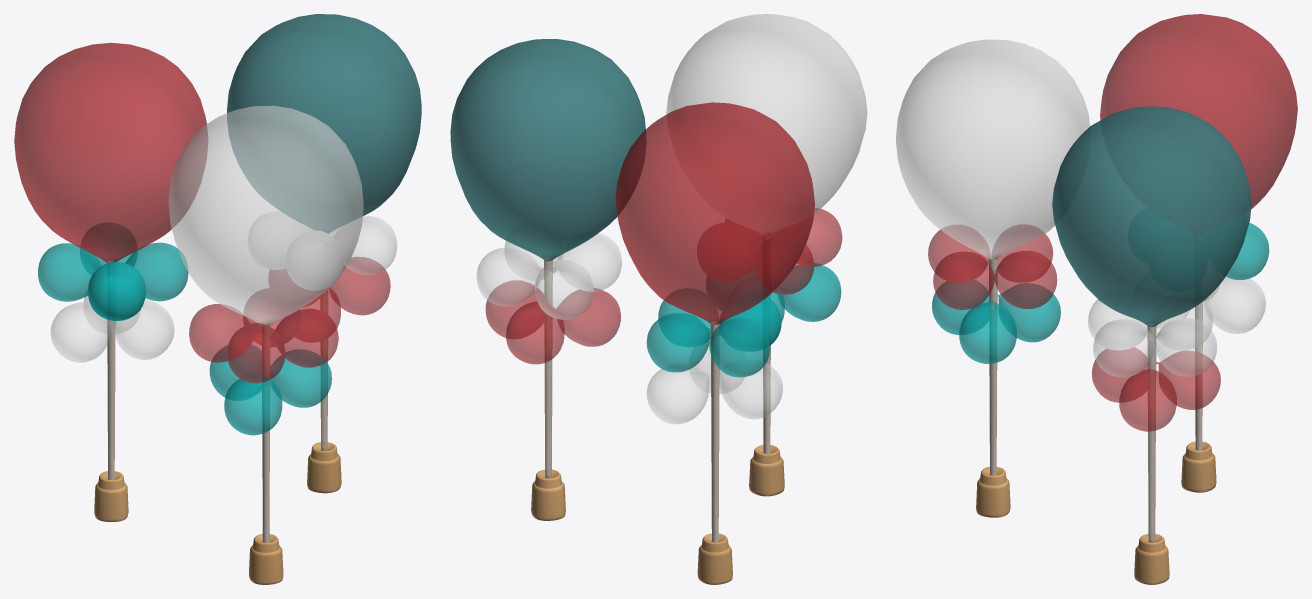
The model's file is Balloon.glb.
The picture shows the model from 3 angles, left to right: view 1: azimuth 30°, elevation 25°; view 2: azimuth 150°, elevation 25°; view 3: azimuth 270°, elevation 25°; orthographic projection.
Parts seen in each view (by area): view 1: MainBalloon_2 (×2), MainBalloon_3, MiniBalloon_2 (×2), MiniBalloon_5 (×2), MiniBalloon_7 (×2), MiniBalloon_1 (×2), MiniBalloon_3 (×2), MiniBalloon_4 (×2), MiniBalloon_6, MiniBalloon_13, MiniBalloon_9 (×2), MiniBalloon_10 (+3 smaller); view 2: MainBalloon_2 (×2), MainBalloon_3, MiniBalloon_9 (×2), MiniBalloon_3 (×2), MiniBalloon_4 (×3), MiniBalloon_10 (×2), MiniBalloon_7 (×2), MiniBalloon_5 (×2), MiniBalloon_2, MiniBalloon_6, MiniBalloon_8, MiniBalloon_12 (+3 smaller); view 3: MainBalloon_2 (×2), MainBalloon_3, MiniBalloon_4 (×2), MiniBalloon_9 (×2), MiniBalloon_7 (×2), MiniBalloon_3 (×2), MiniBalloon_10, MiniBalloon_1, MiniBalloon_5, MiniBalloon_13, MiniBalloon_8, MiniBalloon_2 (+2 smaller).
Part boxes in pixels (x1,y1,x2,y2): MainBalloon_2 (×2): [14, 14, 421, 521]; MainBalloon_3: [168, 105, 363, 584]; MiniBalloon_2 (×2): [38, 243, 338, 367]; MiniBalloon_5 (×2): [50, 301, 331, 407]; MiniBalloon_7 (×2): [189, 212, 307, 362]; MiniBalloon_1 (×2): [88, 262, 300, 346]; MiniBalloon_3 (×2): [80, 223, 285, 383]; MiniBalloon_4 (×2): [113, 299, 261, 400]; MiniBalloon_6: [224, 374, 282, 435]; MiniBalloon_13: [334, 216, 397, 275]; MiniBalloon_9 (×2): [83, 286, 340, 342]; MiniBalloon_10: [88, 262, 145, 320]; MainBalloon_2 (×2): [450, 39, 814, 584]; MainBalloon_3: [666, 14, 867, 496]; MiniBalloon_9 (×2): [556, 288, 710, 424]; MiniBalloon_3 (×2): [646, 208, 842, 372]; MiniBalloon_4 (×3): [506, 277, 784, 394]; MiniBalloon_10 (×2): [476, 247, 781, 344]; MiniBalloon_7 (×2): [535, 244, 813, 319]; MiniBalloon_5 (×2): [706, 268, 782, 419]; MiniBalloon_2: [709, 318, 770, 377]; MiniBalloon_6: [778, 263, 841, 321]; MiniBalloon_8: [485, 280, 543, 338]; MiniBalloon_12: [553, 233, 621, 291]; MainBalloon_2 (×2): [1052, 14, 1297, 584]; MainBalloon_3: [896, 39, 1089, 517]; MiniBalloon_4 (×2): [997, 283, 1220, 409]; MiniBalloon_9 (×2): [1092, 276, 1265, 402]; MiniBalloon_7 (×2): [992, 225, 1212, 349]; MiniBalloon_3 (×2): [928, 223, 1269, 282]; MiniBalloon_10: [1154, 318, 1217, 376]; MiniBalloon_1: [994, 250, 1057, 309]; MiniBalloon_5: [959, 301, 1016, 363]; MiniBalloon_13: [1093, 319, 1154, 377]; MiniBalloon_8: [1119, 369, 1176, 431]; MiniBalloon_2: [933, 251, 994, 309].
Size of the model in its own units: 13.5 by 16.5 by 13.01.
Materials: 8 (8 with a texture image).
